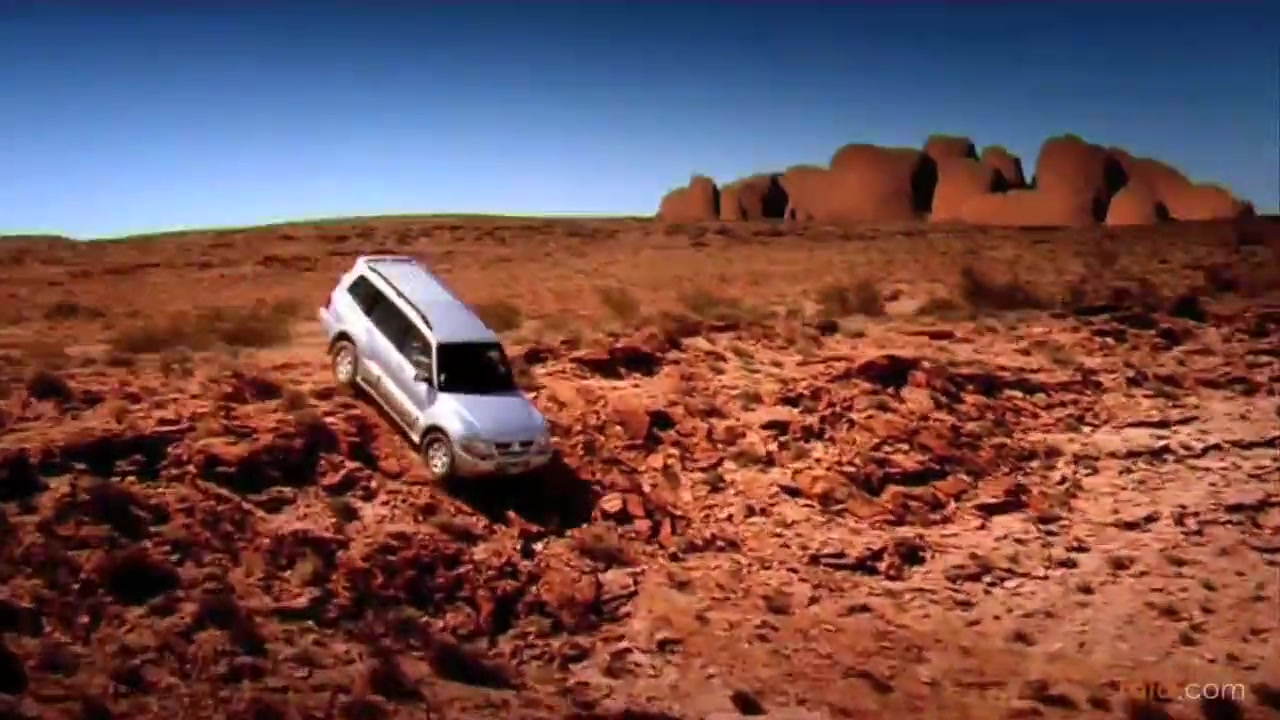car: (317, 249, 554, 487)
